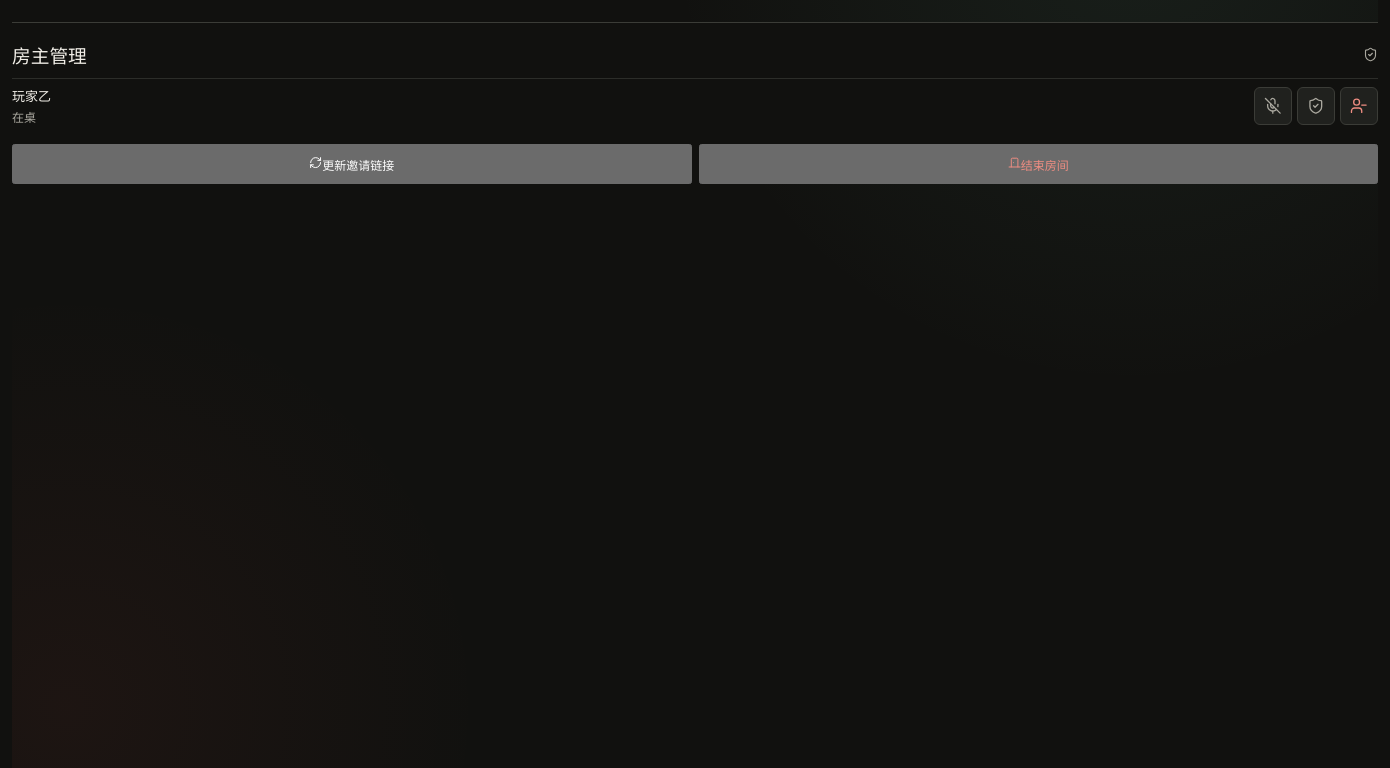
Test: room controls › sends a real remove-player command for another seated player
Click the button named "移出 玩家乙". click: {"x": 1359, "y": 106}
box: [1340,86,1378,124]
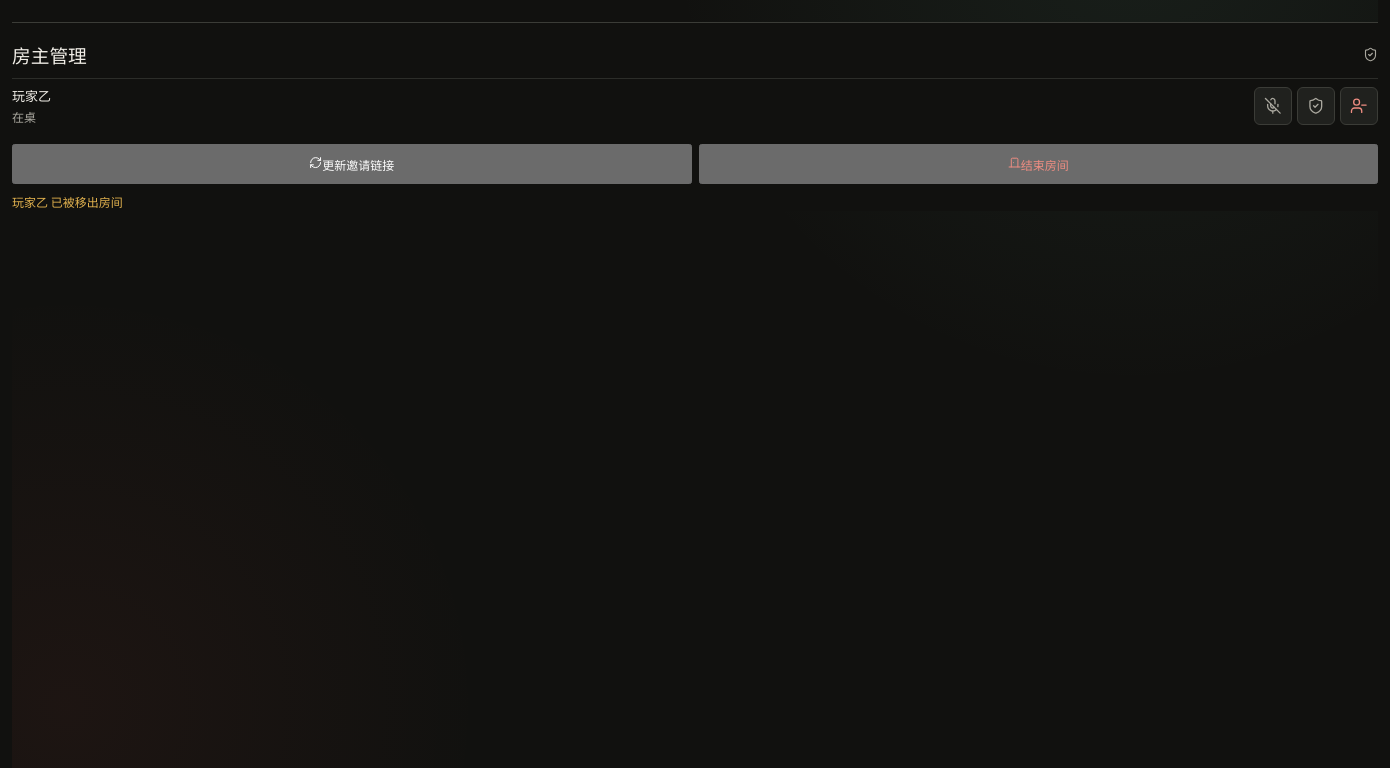
Result: the text "玩家乙 已被移出房间" is shown at [12,193,123,210]
